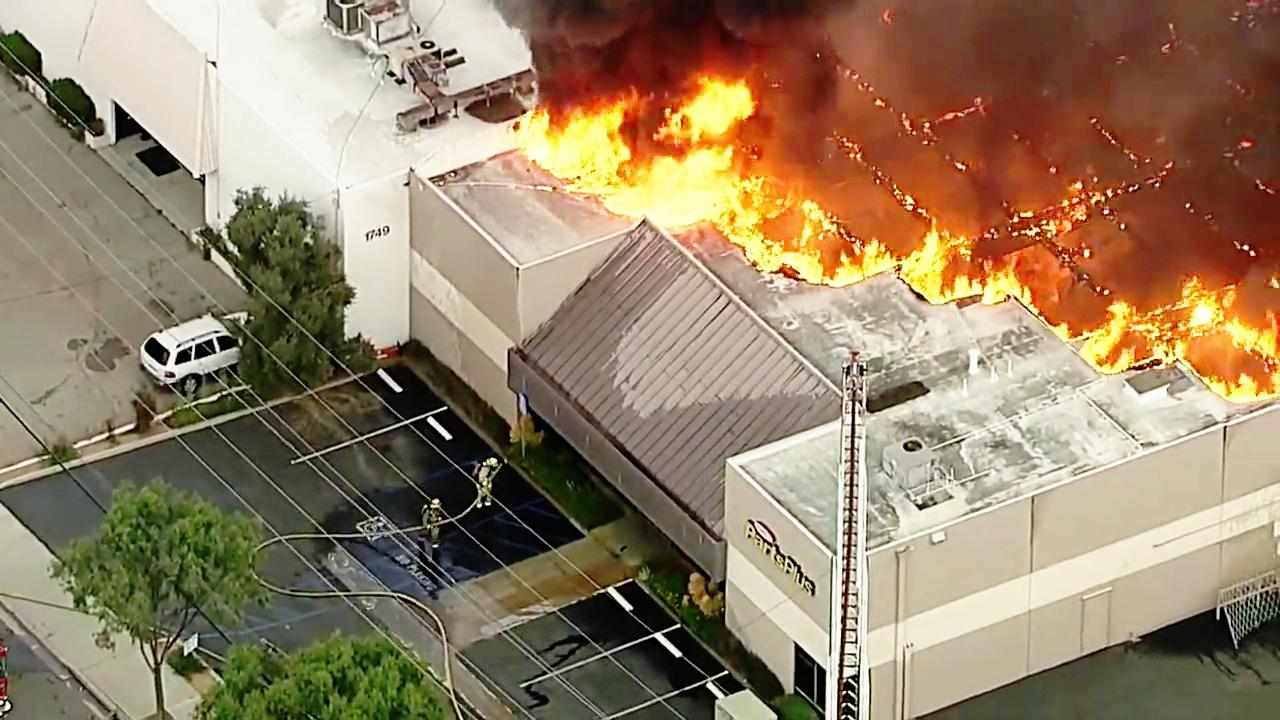fire: (509, 75, 742, 223), (1084, 269, 1280, 399), (731, 225, 954, 290)
smoke: (457, 0, 745, 77)
